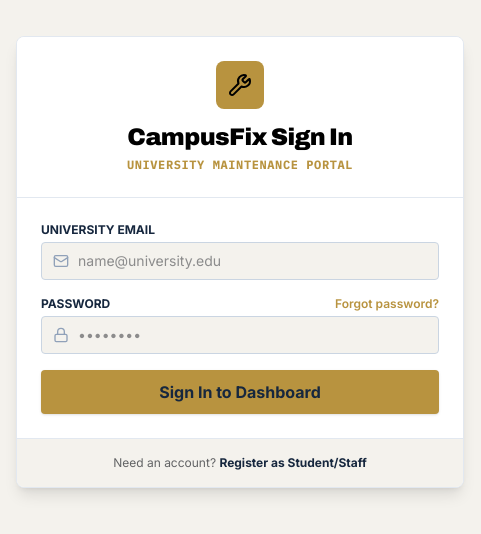
Test: LoginPage Component › shows inline validation error when submitting empty email
Click the button "Sign In to Dashboard".
click(240, 392)  # box [41, 370, 439, 414]
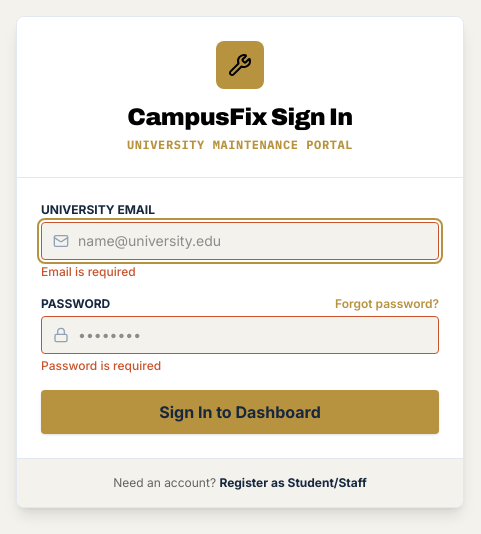
Expected: the text "Email is required" is shown, [41, 264, 136, 279]
